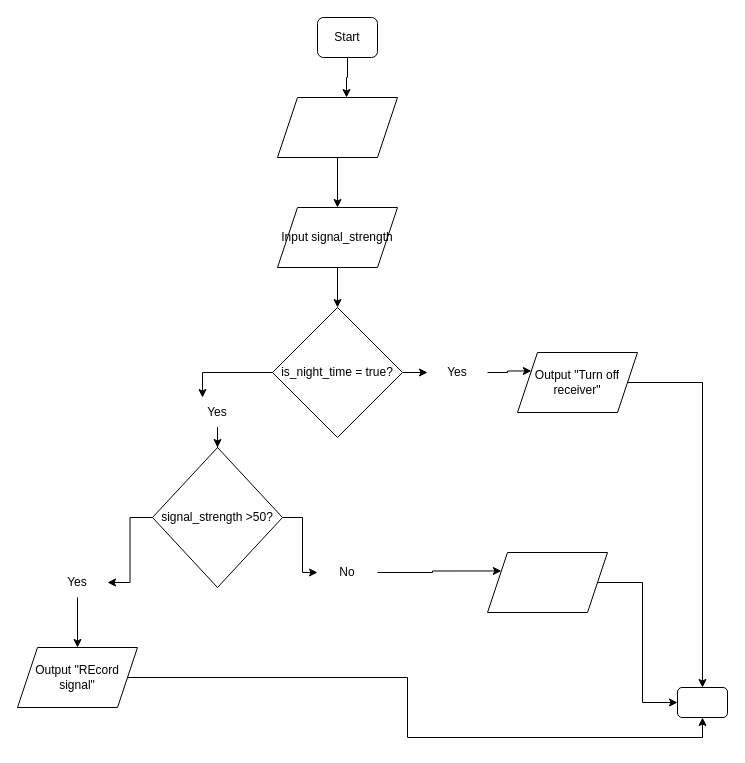
The diagram is 745 pixels wide and 763 high, and some of its shapes have lost their labels. Each missing label, with the centre of its shape:
End: [702,702]
Input is_night_time: [337,127]
Output " Do not record": [547,582]
